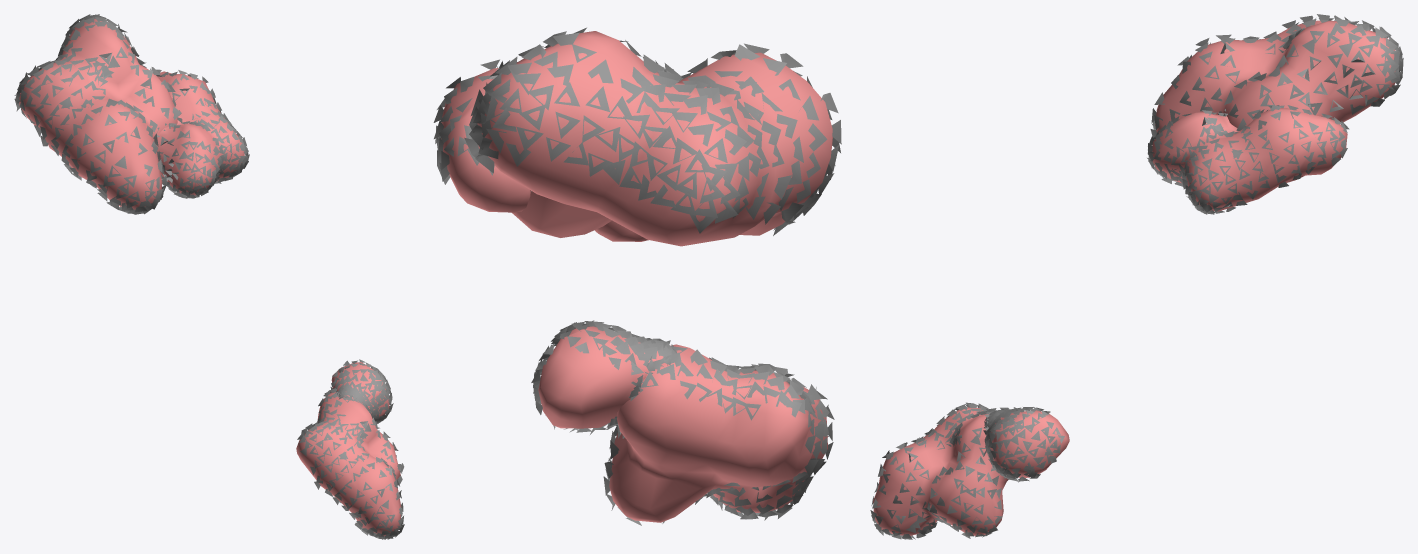
File: SM_ENV_LKNVLD_TreeSet_R_Lod1.gltf
The picture shows the model from 3 angles, left to right: view 1: azimuth 30°, elevation 25°; view 2: azimuth 150°, elevation 25°; view 3: azimuth 270°, elevation 25°; orthographic projection. The views are drawn at different scales.
Parts seen in each view (by area): view 1: SM_ENV_LKNVLD_TreeSet_R_Lod1; view 2: SM_ENV_LKNVLD_TreeSet_R_Lod1; view 3: SM_ENV_LKNVLD_TreeSet_R_Lod1.
Part boxes in pixels (x1=…): SM_ENV_LKNVLD_TreeSet_R_Lod1: x1=14, y1=14, x2=404, y2=539; SM_ENV_LKNVLD_TreeSet_R_Lod1: x1=433, y1=27, x2=841, y2=525; SM_ENV_LKNVLD_TreeSet_R_Lod1: x1=870, y1=14, x2=1403, y2=539.
Size of the model in its own units: 22.65 by 36.82 by 38.29.
